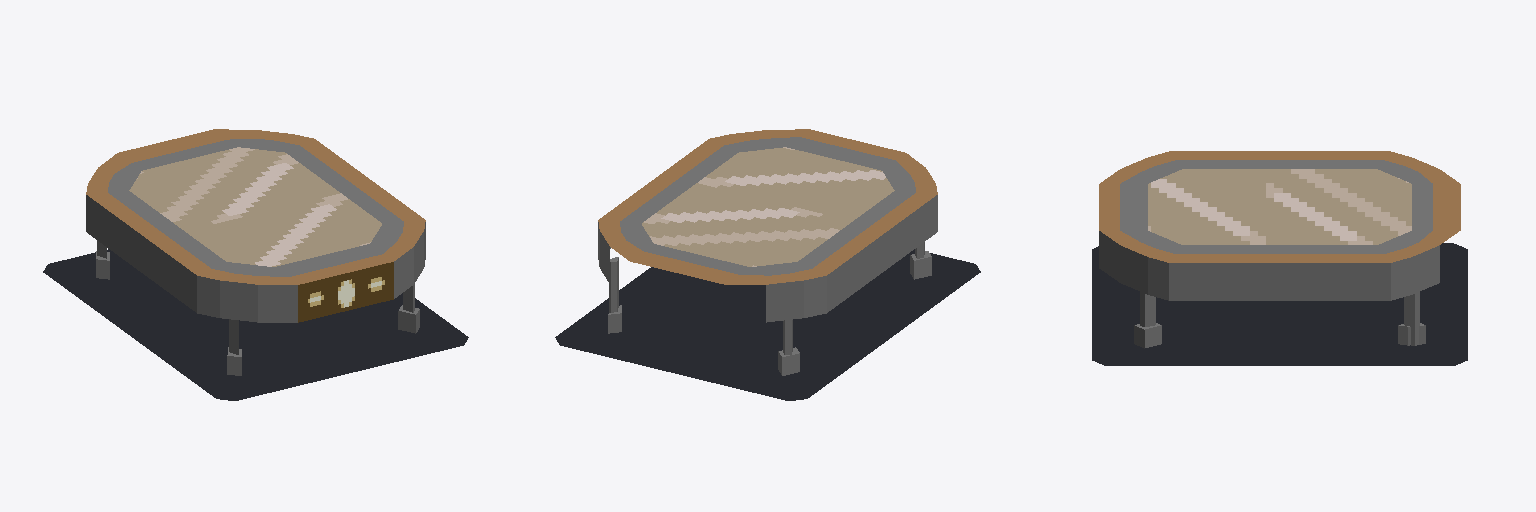
3 views of the same model, side by side, from view 1: azimuth 30°, elevation 25°; view 2: azimuth 150°, elevation 25°; view 3: azimuth 270°, elevation 25° (orthographic).
Visible parts, largest first — view 1: polygon5, polygon2, polygon3, polygon0_polygon0.001, polygon1_polygon1.001, polygon4; view 2: polygon5, polygon2, polygon0_polygon0.001, polygon3, polygon1_polygon1.001; view 3: polygon5, polygon2, polygon3, polygon0_polygon0.001, polygon1_polygon1.001.
Boxes of the visible parts, x1=… form: polygon5: x1=43, y1=249, x2=468, y2=400; polygon2: x1=129, y1=147, x2=381, y2=266; polygon3: x1=86, y1=195, x2=425, y2=375; polygon0_polygon0.001: x1=86, y1=129, x2=425, y2=284; polygon1_polygon1.001: x1=108, y1=139, x2=403, y2=276; polygon4: x1=298, y1=262, x2=393, y2=322; polygon5: x1=555, y1=249, x2=980, y2=400; polygon2: x1=642, y1=147, x2=894, y2=266; polygon0_polygon0.001: x1=598, y1=129, x2=937, y2=284; polygon3: x1=598, y1=195, x2=937, y2=375; polygon1_polygon1.001: x1=620, y1=137, x2=915, y2=275; polygon5: x1=1092, y1=243, x2=1467, y2=365; polygon2: x1=1148, y1=169, x2=1411, y2=244; polygon3: x1=1099, y1=231, x2=1439, y2=348; polygon0_polygon0.001: x1=1099, y1=151, x2=1460, y2=262; polygon1_polygon1.001: x1=1120, y1=160, x2=1432, y2=253.
Size of the model in its own units: 42 by 15.5 by 54.
6 materials, 4 textured.